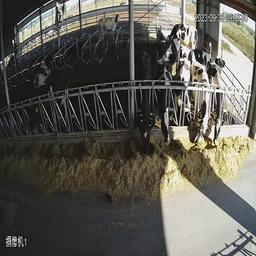cow: (27, 69, 80, 149), (206, 54, 237, 152), (190, 57, 215, 156), (156, 51, 174, 151), (173, 54, 192, 147), (27, 46, 59, 92), (169, 18, 198, 47)
